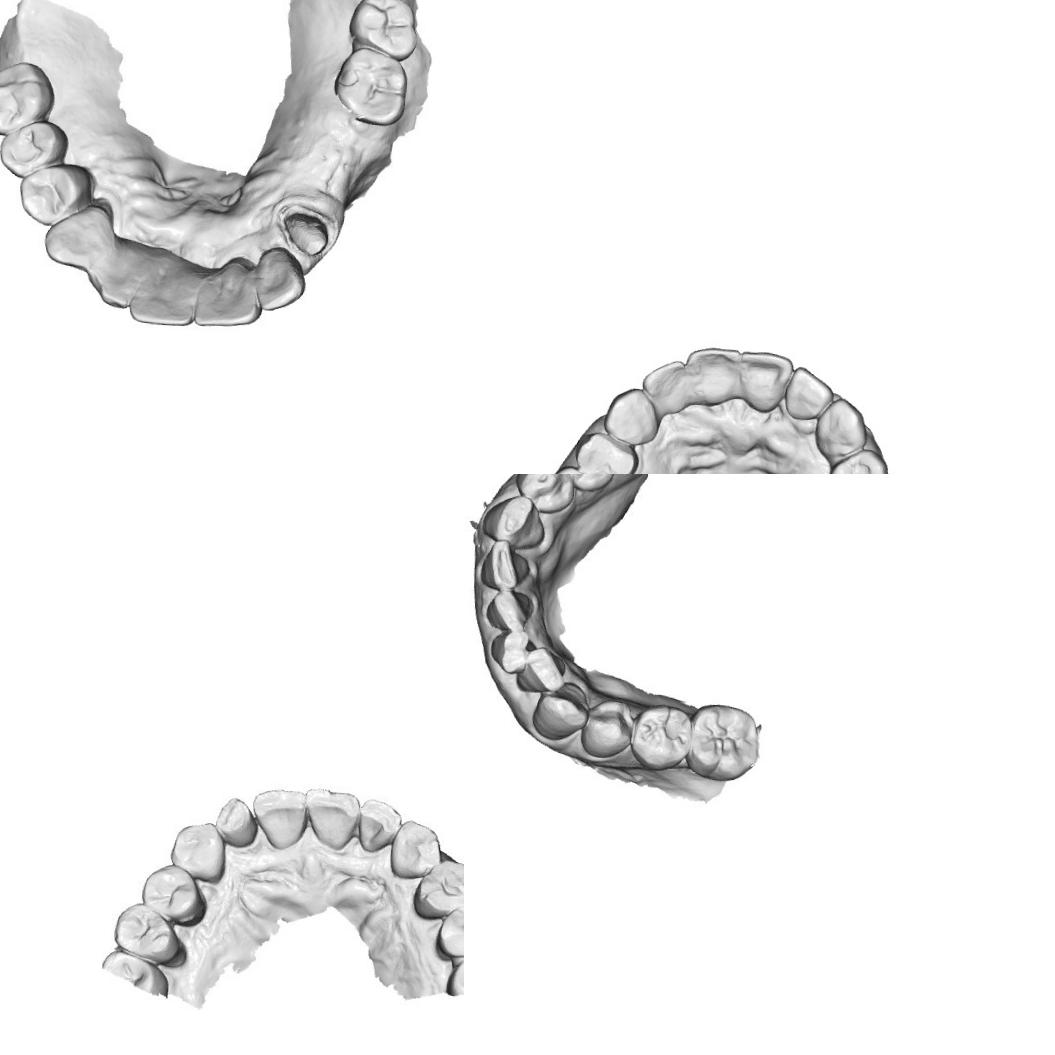canine: (44, 208, 112, 269), (810, 393, 870, 461), (168, 820, 230, 884), (529, 680, 592, 742), (600, 384, 660, 446), (483, 490, 543, 552), (388, 818, 443, 882)
crown: (283, 208, 334, 260)
incisor: (192, 254, 266, 330), (130, 266, 198, 330), (301, 784, 364, 853), (736, 345, 796, 417), (252, 244, 308, 314), (250, 785, 310, 850), (684, 342, 746, 404), (782, 362, 836, 423), (640, 356, 696, 410), (355, 795, 405, 855), (86, 250, 136, 307), (478, 539, 530, 593), (212, 793, 258, 850), (486, 627, 534, 677), (522, 646, 570, 695), (488, 586, 533, 631)
molar: (330, 44, 410, 128), (692, 702, 763, 780), (345, 0, 421, 63), (0, 58, 58, 138)
premolar: (16, 160, 97, 228), (628, 701, 695, 770), (0, 116, 70, 182), (110, 900, 180, 966), (139, 860, 204, 924), (411, 855, 464, 922), (584, 696, 640, 755), (572, 428, 640, 474), (515, 474, 575, 518), (433, 898, 464, 962), (825, 445, 890, 474), (556, 474, 617, 495)
